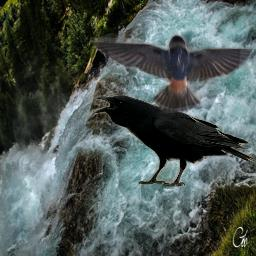Crow: (95, 95, 254, 188)
Swallow: (86, 32, 254, 113)
